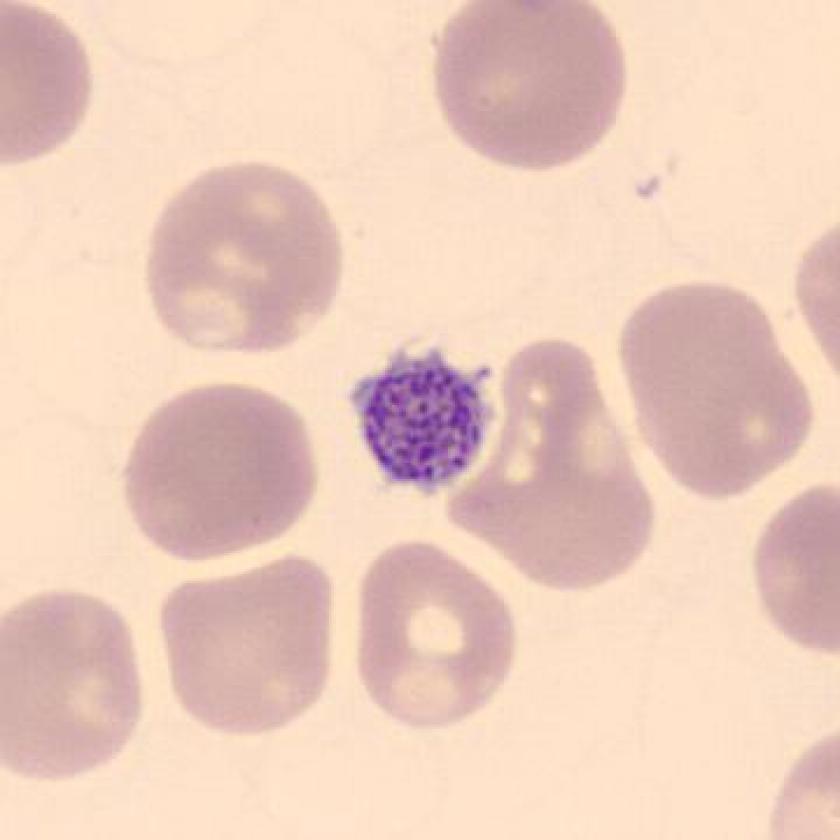platelets: (339, 330, 505, 506)
